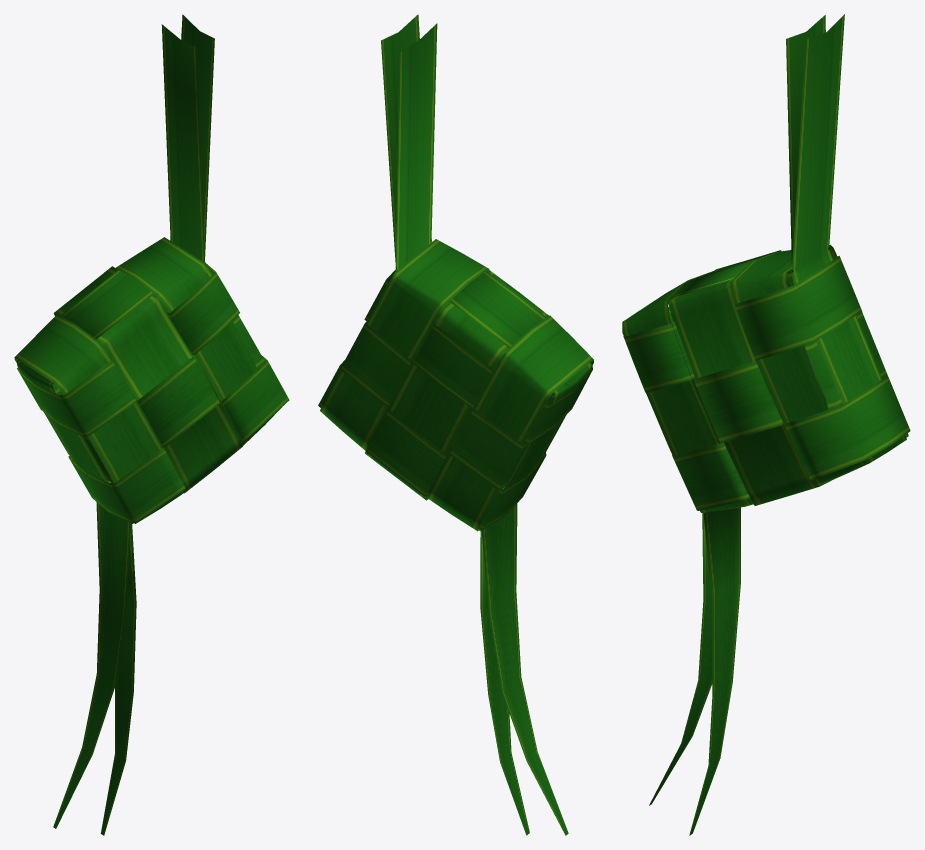
The model's file is Ketupat.fbx.
3 renders of one model, left to right at view 1: azimuth 30°, elevation 25°; view 2: azimuth 150°, elevation 25°; view 3: azimuth 330°, elevation 25°, orthographic. The views are drawn at different scales.
Visible parts, largest first — view 1: Ketupat_ketupat; view 2: Ketupat_ketupat; view 3: Ketupat_ketupat.
Boxes of the visible parts, box(x1,y1,x2,y2) form: Ketupat_ketupat: box(14, 14, 289, 835); Ketupat_ketupat: box(318, 14, 593, 835); Ketupat_ketupat: box(622, 14, 910, 835).
Size of the model in its own units: 238 by 742 by 96.51.
Materials: 1 (1 with a texture image).
